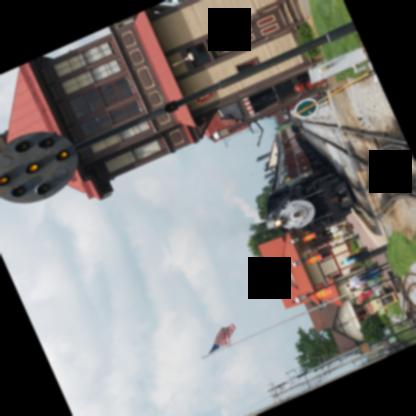handbag: (347, 253, 353, 260)
